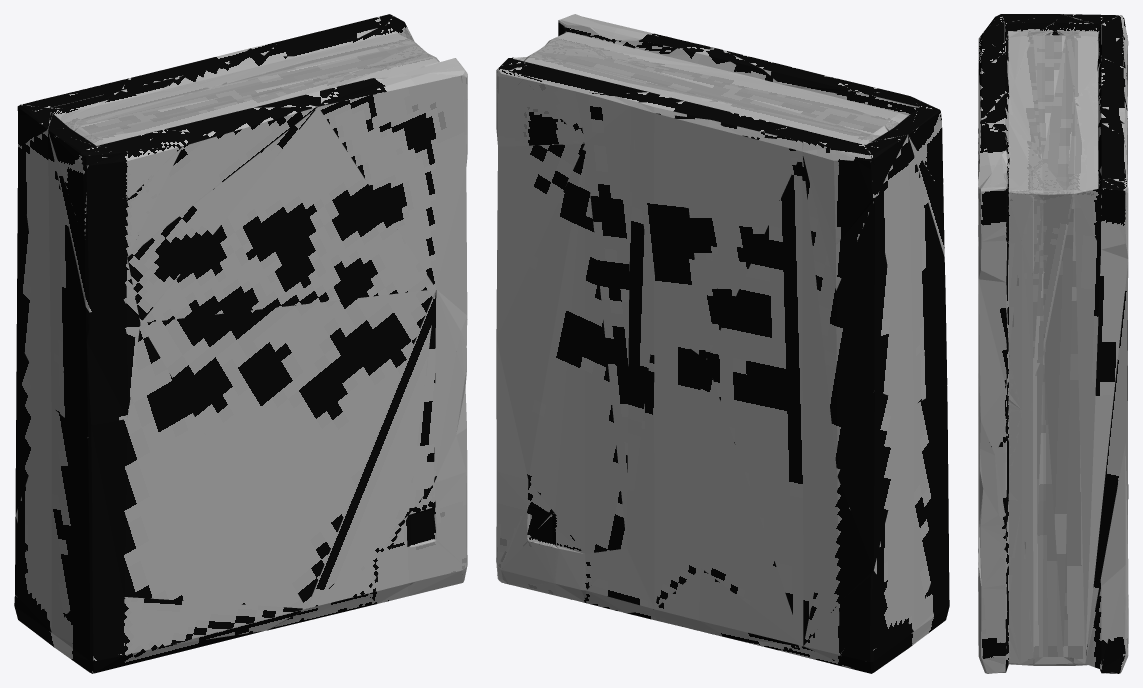
The picture shows the model from 3 angles, left to right: view 1: azimuth 30°, elevation 25°; view 2: azimuth 150°, elevation 25°; view 3: azimuth 270°, elevation 25°; orthographic projection. The views are drawn at different scales.
Parts seen in each view (by area): view 1: OBJ136; view 2: OBJ136; view 3: OBJ136.
Boxes of the visible parts, <box> form: OBJ136: <box>14,14,467,673</box>; OBJ136: <box>496,14,949,673</box>; OBJ136: <box>978,14,1128,673</box>.
Bounding box in the file's own units: 0.2456 × 0.3193 × 0.0892.
Materials: 1 (1 with a texture image).
